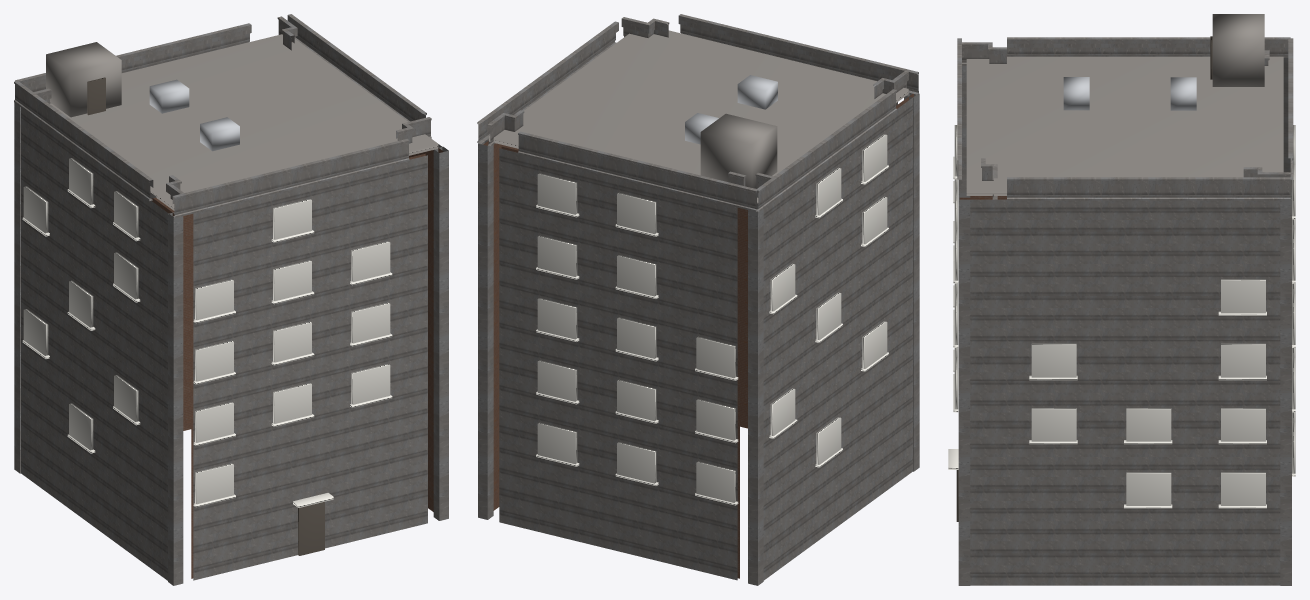
Rendered from b_tower1.gltf.
3 views of the same model, side by side, from view 1: azimuth 30°, elevation 25°; view 2: azimuth 150°, elevation 25°; view 3: azimuth 270°, elevation 25° (orthographic). The views are drawn at different scales.
Visible parts, largest first — view 1: b_tower1; view 2: b_tower1; view 3: b_tower1.
Boxes of the visible parts, x1,y1,x2,y2 form: b_tower1: [14, 14, 448, 585]; b_tower1: [477, 14, 919, 585]; b_tower1: [948, 14, 1295, 585].
Size of the model in its own units: 14.48 by 20.55 by 14.7.
9 materials, 3 textured.
